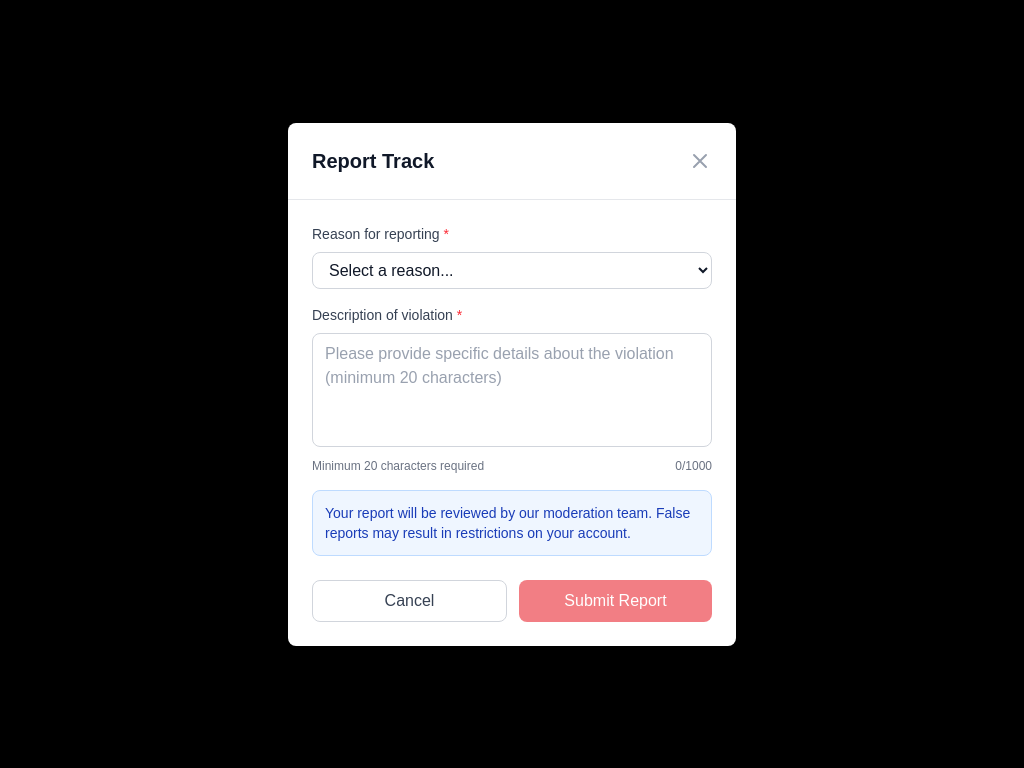
it: ReportModal - Examples Section › Collapsible Functionality › should expand examples when clicked
The image size is (1024, 768).
// Select a reason
Select "Spam or Misleading Content" in the dropdown labelled "Reason for reporting *" at coordinates (512, 270), box 312,252 -> 712,288
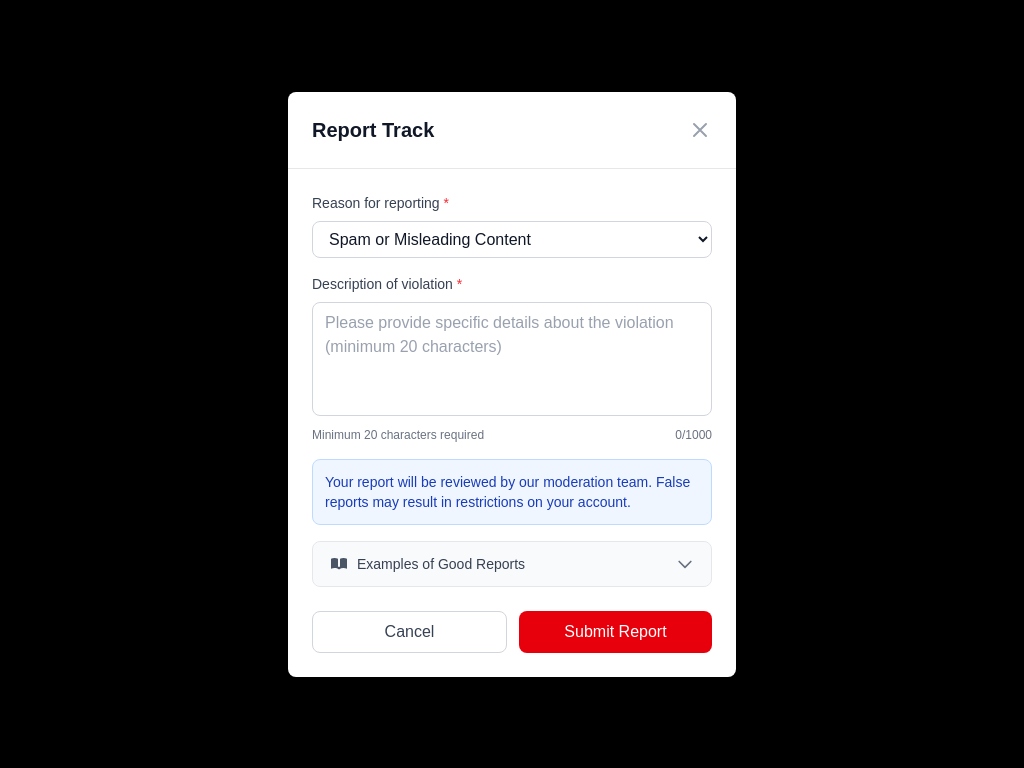
// Click the examples header to expand
Click the button "Examples of Good Reports" at coordinates (512, 564), box 313,542 -> 711,586
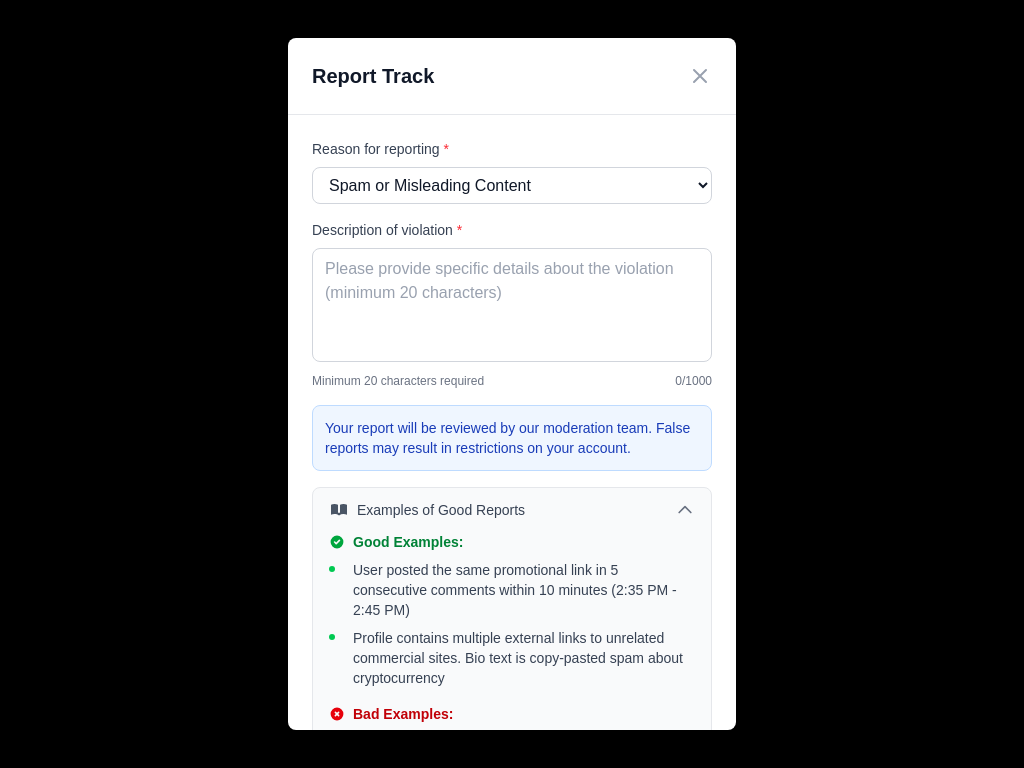
Expected: the text "Good Examples:" is shown, 353,532 -> 464,552
Expected: the text "Bad Examples:" is shown, 353,704 -> 453,724
